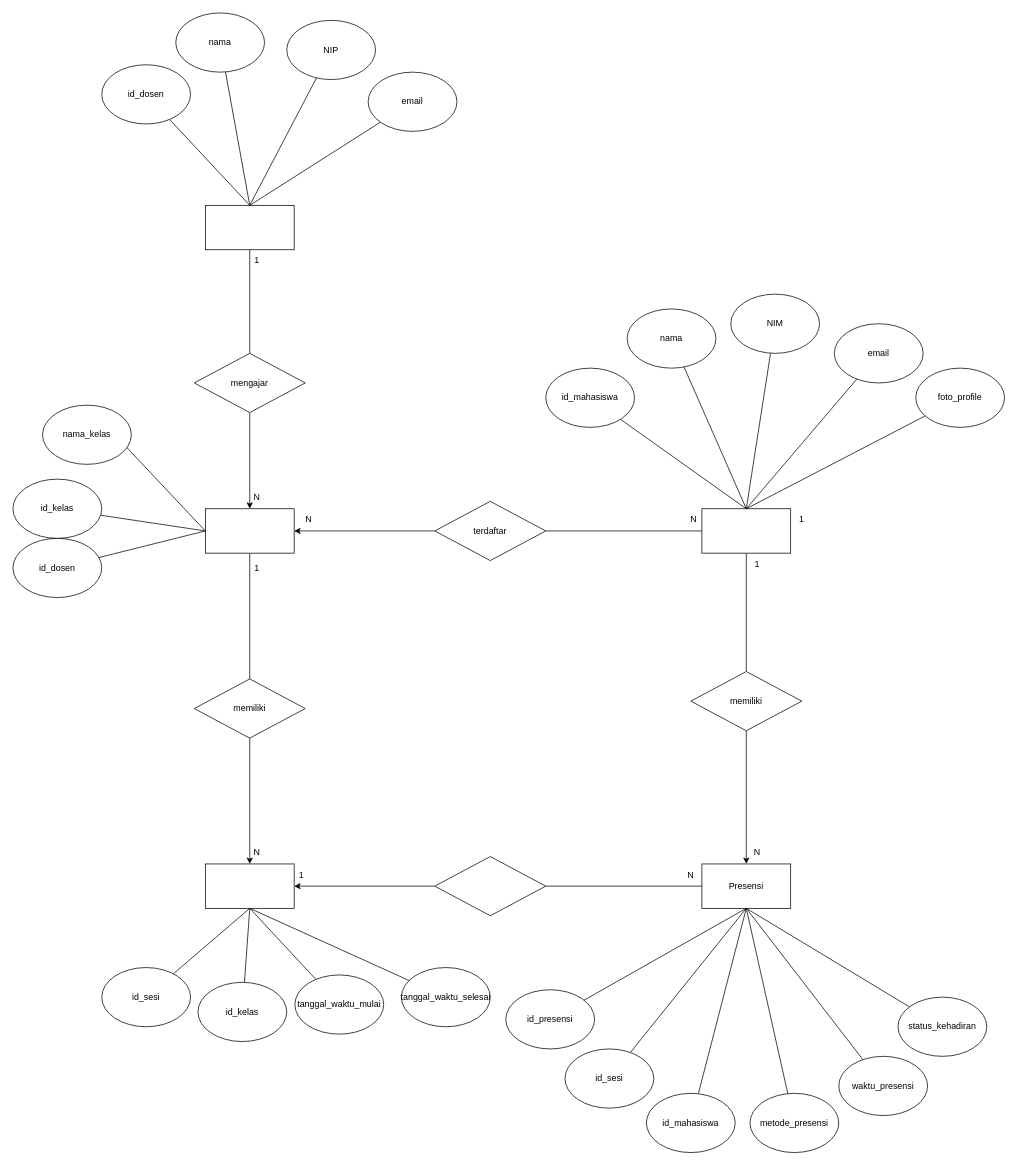
Some shapes in this 1018 by 1166 pixel diagram are drawn without their labels. Each missing label, with the centre of its shape:
"Dosen" belongs at point (249, 227).
"Kelas" belongs at point (249, 530).
"Mahasiswa" belongs at point (746, 530).
"Sesi_perkuliahan" belongs at point (249, 885).
"untuk setiap" belongs at point (490, 886).
